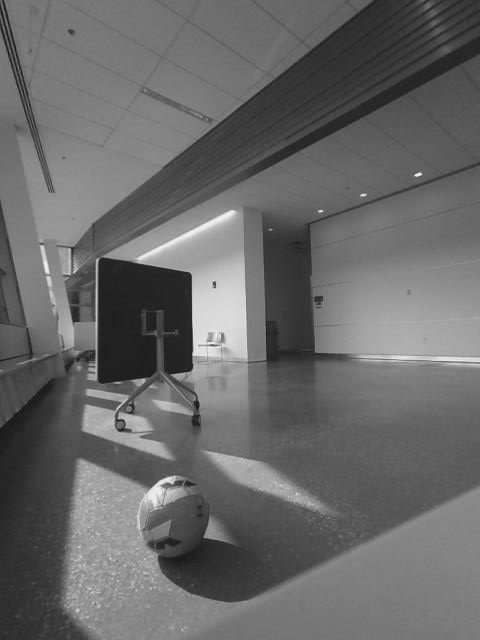ball: (136, 474, 214, 560)
